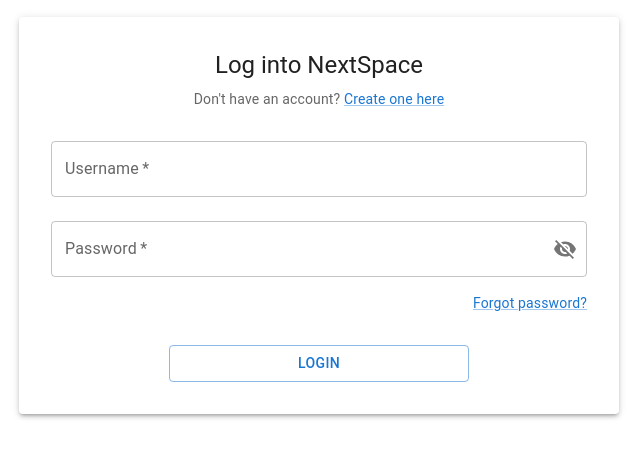
Test: LoginPage › validates username is required
Click the field labelled "Username *": click(319, 169) [51,141,587,197]
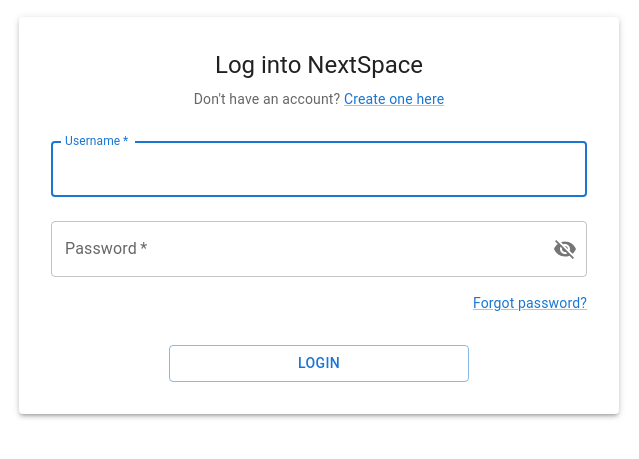
Press Tab
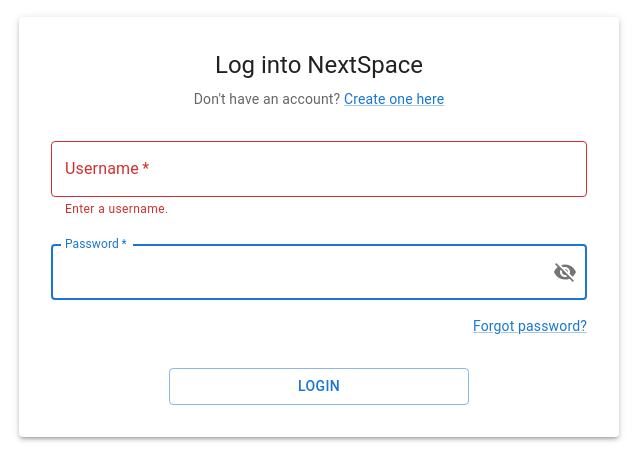
Check: the text "Enter a username." is shown, box [65,202,168,216]
